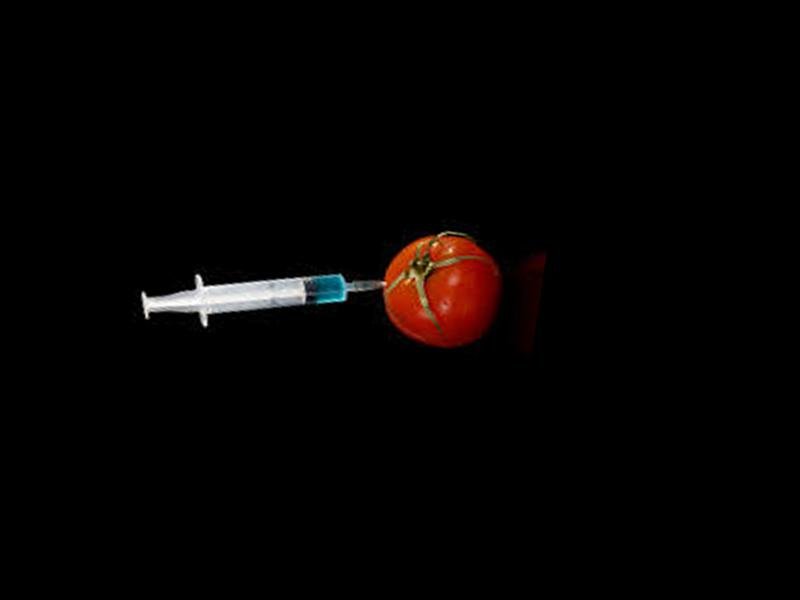Tomato: (374, 223, 504, 354)
